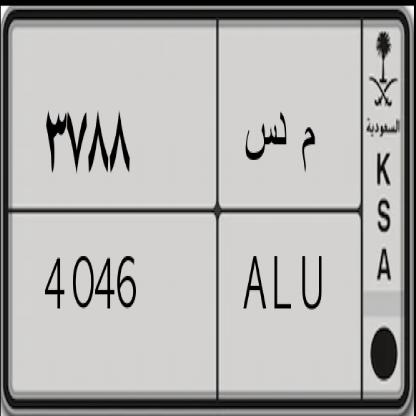english: (1, 198, 367, 400)
